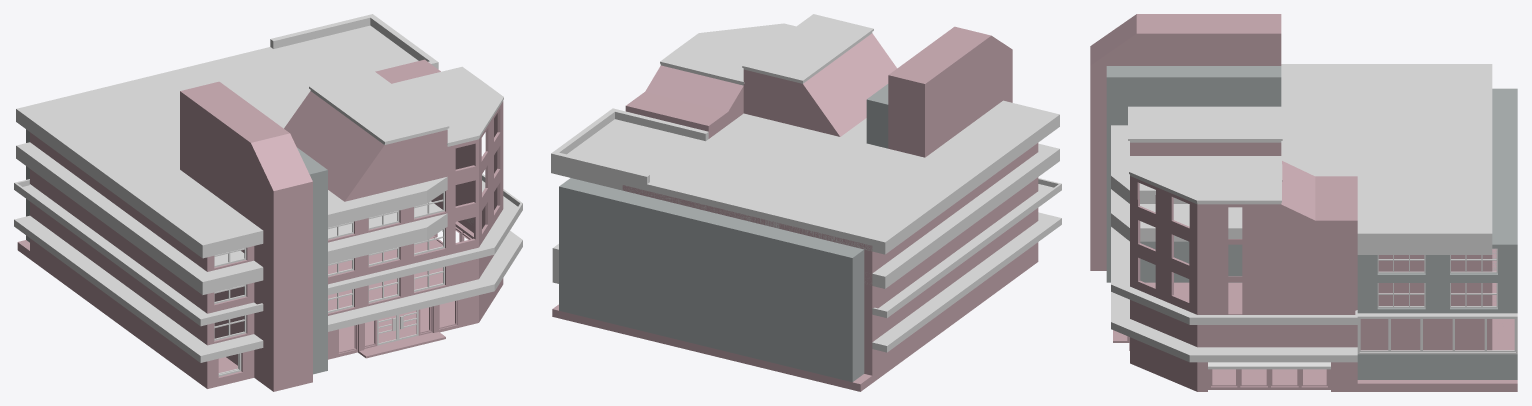
3 views of the same model, side by side, from view 1: azimuth 30°, elevation 25°; view 2: azimuth 150°, elevation 25°; view 3: azimuth 270°, elevation 25° (orthographic). The views are drawn at different scales.
Parts seen in each view (by area): view 1: white part, pink part, blue part; view 2: white part, blue part, pink part; view 3: white part, pink part, blue part.
Part boxes in pixels (bbox=[...]): white part: bbox=[14, 14, 522, 376]; pink part: bbox=[17, 59, 503, 391]; blue part: bbox=[26, 129, 327, 374]; white part: bbox=[551, 14, 1061, 352]; blue part: bbox=[559, 84, 888, 382]; pink part: bbox=[552, 26, 1038, 391]; white part: bbox=[1111, 64, 1517, 369]; pink part: bbox=[1090, 14, 1517, 391]; blue part: bbox=[1106, 66, 1517, 379].
Bounding box in the file's own units: 3292 × 2026 × 3307.
